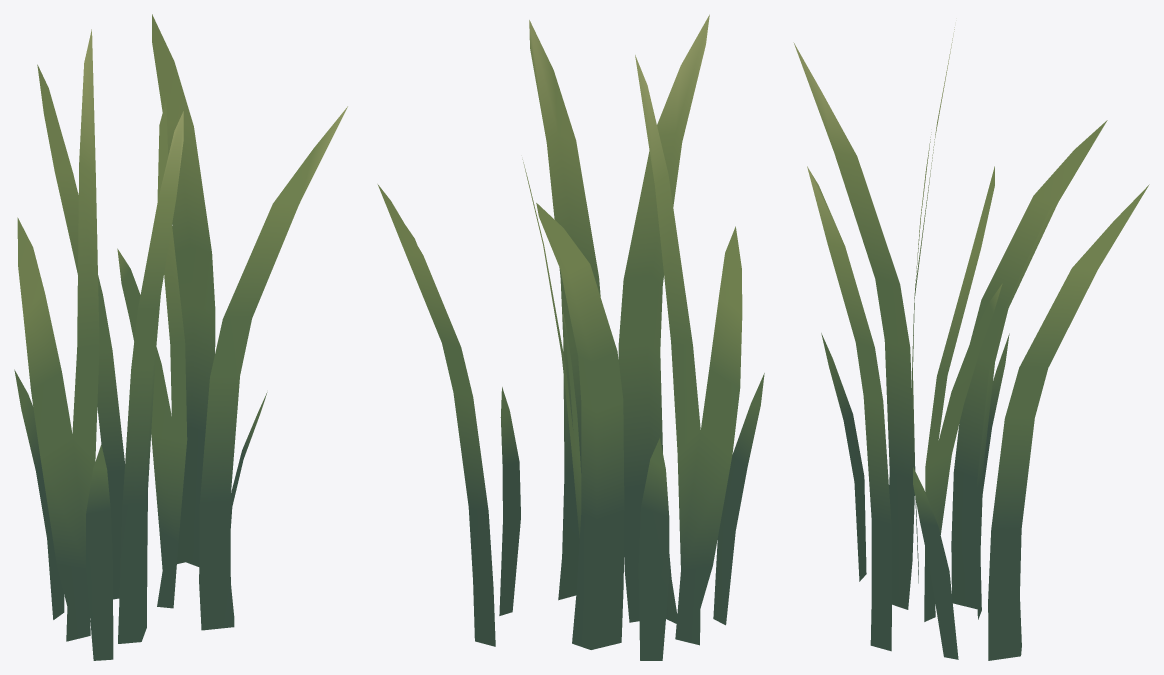
Rendered from grass-broad-tuft.glb.
The picture shows the model from 3 angles, left to right: view 1: azimuth 30°, elevation 25°; view 2: azimuth 150°, elevation 25°; view 3: azimuth 270°, elevation 25°; orthographic projection. The views are drawn at different scales.
Parts seen in each view (by area): view 1: grass-broad-tuft runtime mesh; view 2: grass-broad-tuft runtime mesh; view 3: grass-broad-tuft runtime mesh.
Boxes of the visible parts, left/top/right/bottom form: grass-broad-tuft runtime mesh: left=14, top=14, right=347, bottom=660; grass-broad-tuft runtime mesh: left=377, top=14, right=764, bottom=660; grass-broad-tuft runtime mesh: left=793, top=27, right=1149, bottom=660.
Bounding box in the file's own units: 0.2011 × 0.42 × 0.2321.
Materials: 1 (1 with a texture image).
